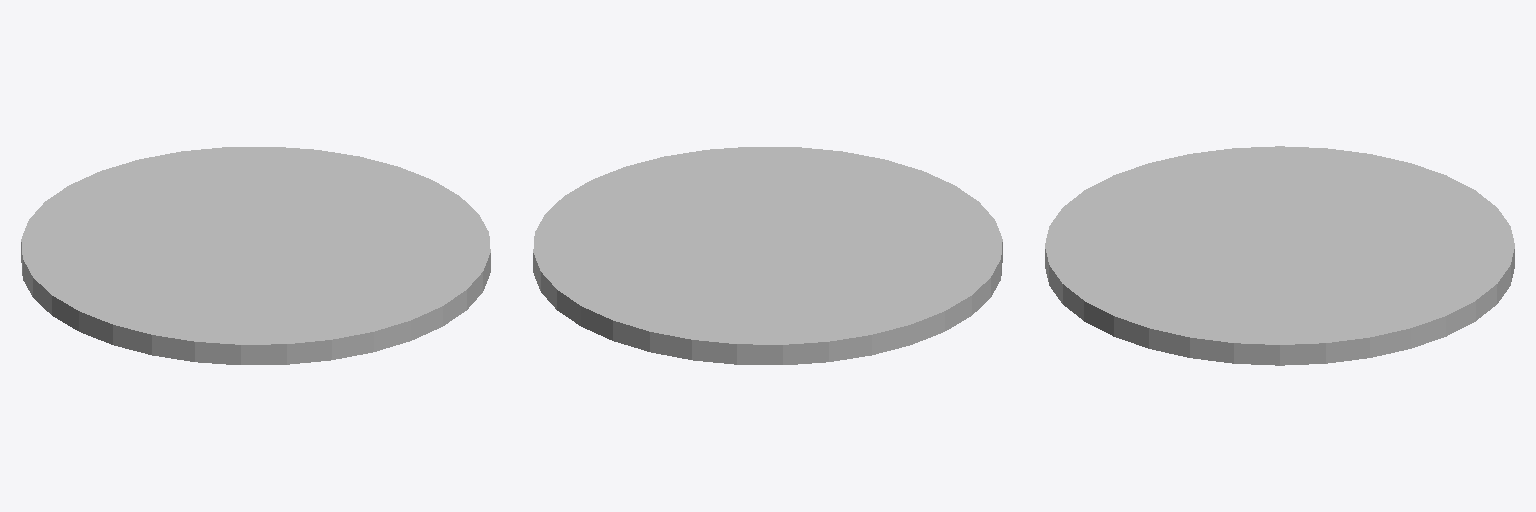
The model's file is puck1.obj.
3 views of the same model, side by side, from view 1: azimuth 30°, elevation 25°; view 2: azimuth 150°, elevation 25°; view 3: azimuth 270°, elevation 25° (orthographic).
Visible parts, largest first — view 1: Cylinder; view 2: Cylinder; view 3: Cylinder.
Part boxes in pixels (bbox=[...]): Cylinder: bbox=[21, 147, 490, 364]; Cylinder: bbox=[533, 147, 1002, 364]; Cylinder: bbox=[1045, 146, 1514, 365].
Size of the model in its own units: 0.4081 by 0.0197 by 0.4081.